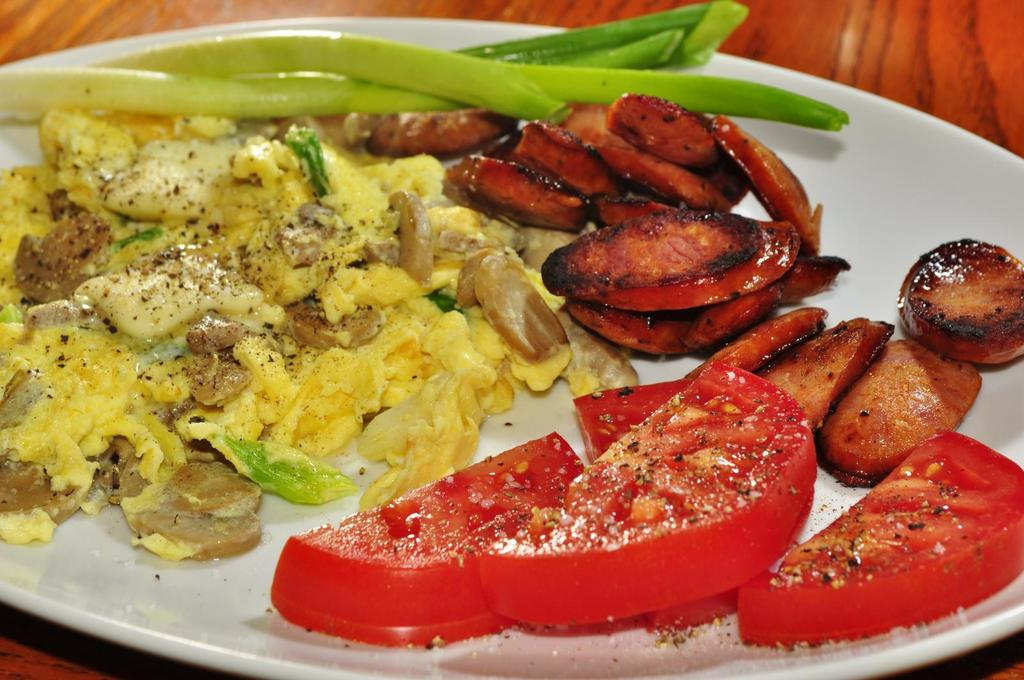Tomato: (466, 352, 824, 632), (266, 432, 592, 648), (745, 447, 1015, 654), (577, 377, 687, 461)
